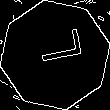L_W: (27, 35, 83, 75)
